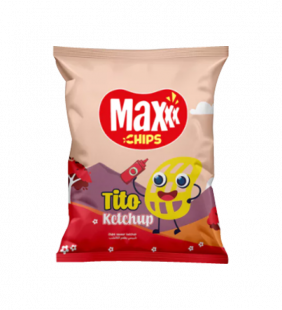TITO: (47, 41, 235, 269)
